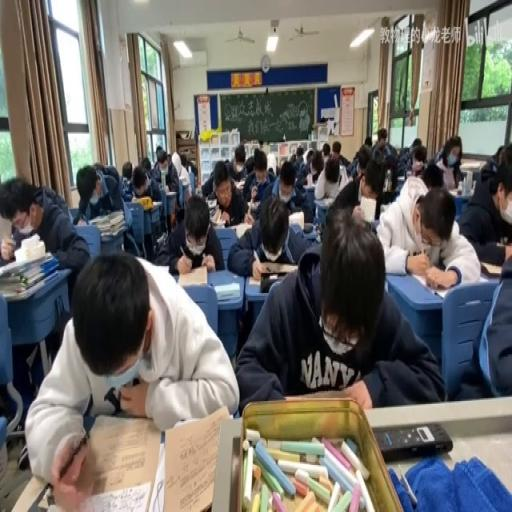calculator: (146, 441, 166, 510), (409, 272, 456, 297), (248, 263, 296, 286), (88, 209, 124, 238), (176, 263, 208, 285), (358, 193, 377, 222), (478, 262, 506, 280), (214, 282, 240, 300), (287, 209, 303, 229), (210, 205, 226, 223), (234, 222, 250, 237), (449, 186, 472, 196), (154, 230, 166, 249), (177, 170, 189, 184), (247, 199, 259, 212), (232, 179, 246, 189), (320, 196, 334, 206), (395, 175, 405, 188), (305, 174, 314, 188), (206, 196, 216, 208), (378, 202, 389, 212), (194, 182, 202, 193), (164, 183, 170, 192)
paper: (26, 250, 237, 504), (235, 208, 438, 414), (0, 173, 89, 306), (377, 178, 480, 286), (453, 246, 510, 400), (156, 190, 222, 274), (268, 158, 314, 226), (128, 164, 166, 244), (242, 148, 274, 203), (314, 154, 349, 200), (370, 138, 398, 192), (432, 136, 462, 175), (92, 162, 120, 196), (394, 136, 417, 175), (350, 138, 371, 175), (226, 144, 246, 182), (421, 160, 443, 190), (186, 155, 198, 183), (121, 161, 133, 182), (412, 151, 426, 168), (376, 126, 386, 148), (140, 155, 150, 176), (154, 145, 164, 164), (304, 148, 314, 166), (331, 141, 341, 159), (178, 154, 188, 172), (294, 146, 303, 166), (496, 145, 507, 161), (322, 141, 330, 159), (74, 213, 86, 225), (411, 136, 421, 150), (91, 162, 102, 171), (364, 135, 371, 145), (290, 151, 296, 162), (166, 154, 172, 165)
person: (374, 422, 451, 461), (315, 222, 324, 240), (302, 220, 314, 232)
